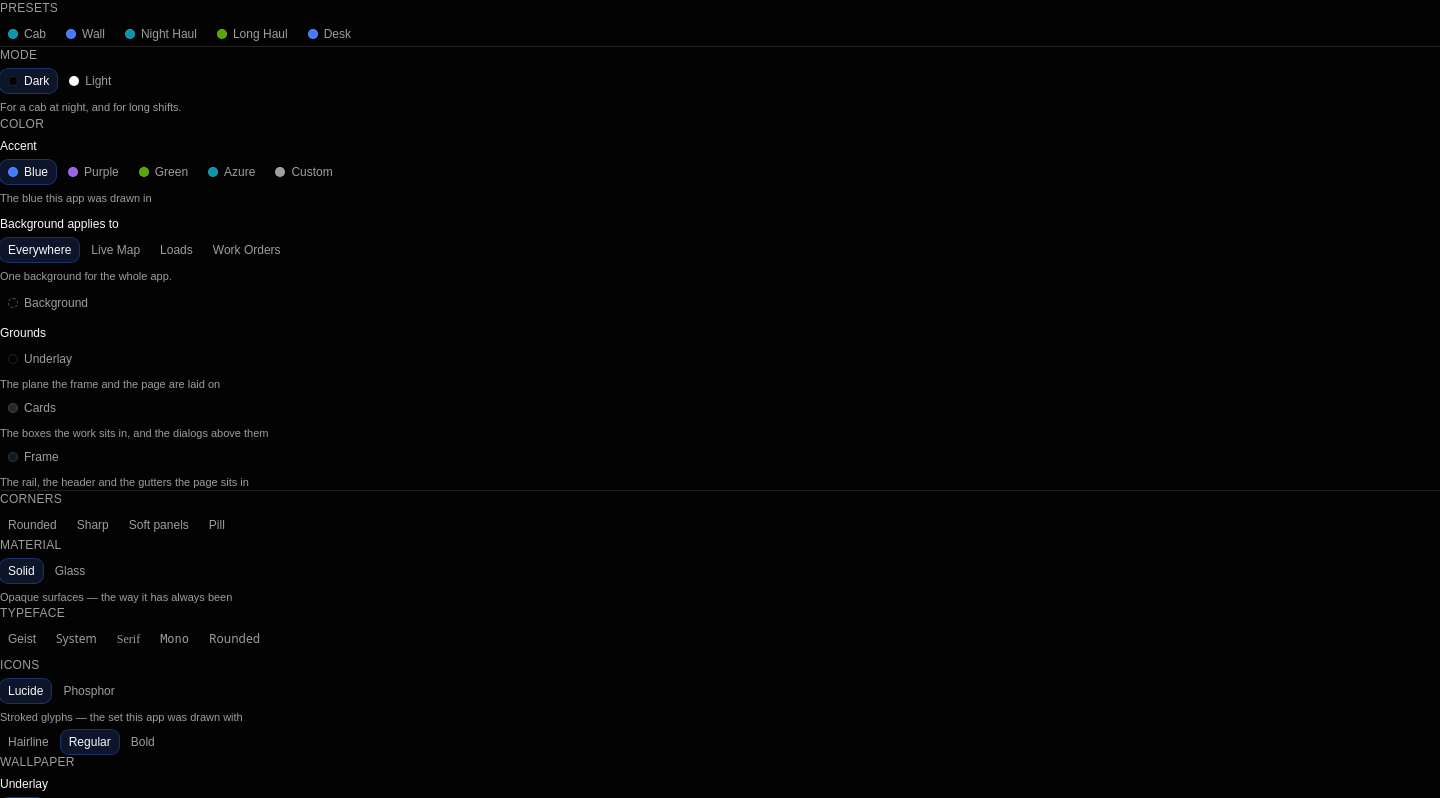
Test: the row offers everywhere plus the named places, and nothing else › says why the selected place earns its own look
Step 1. Click the button "Loads" → (176, 250), box [152,238,201,262]
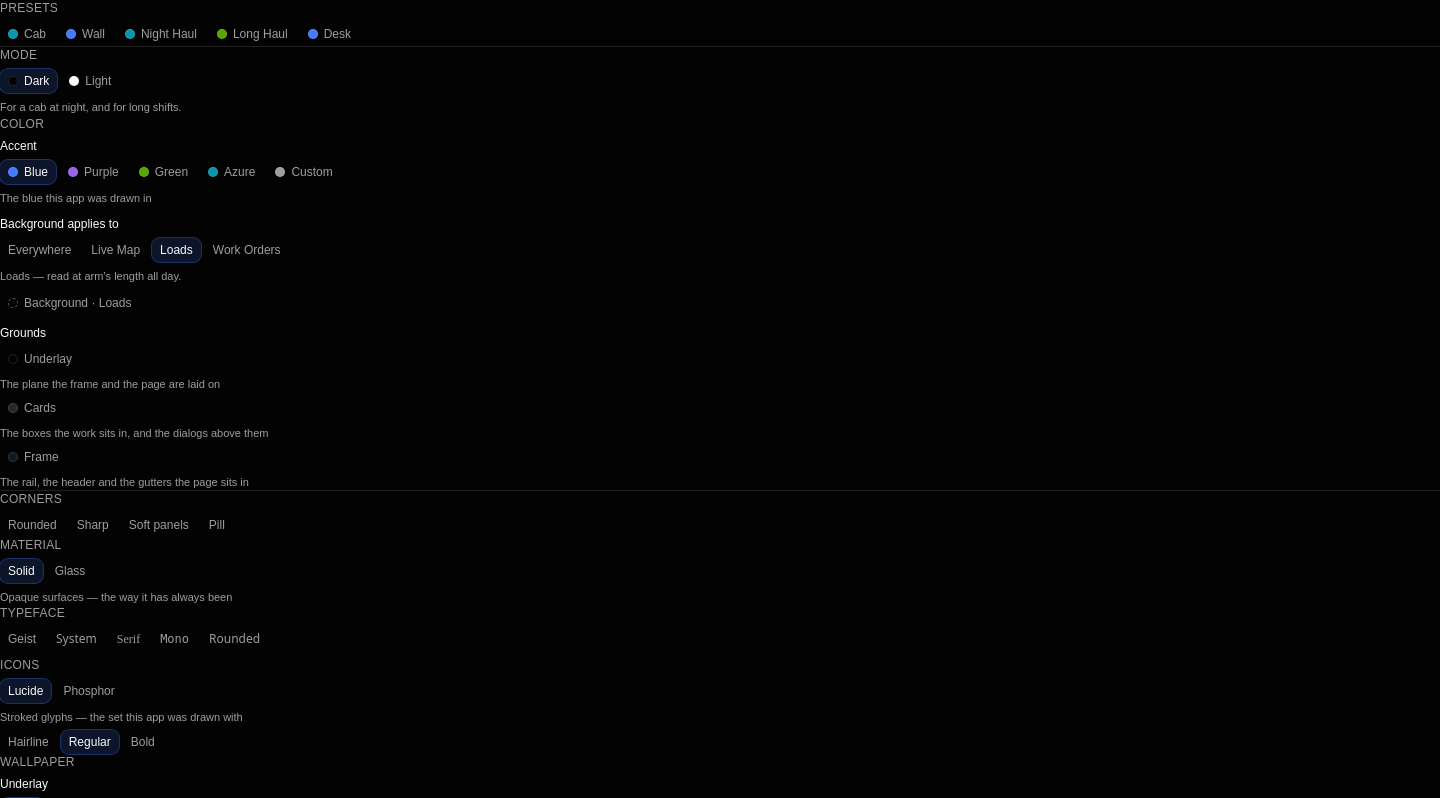
Now the text "Loads — read at arm’s length all day." is shown, box [0,270,181,282]
